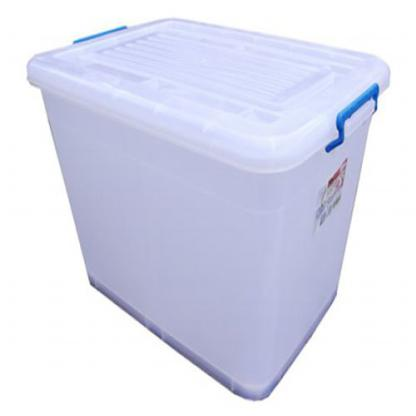plastic_box: (20, 3, 389, 404)
